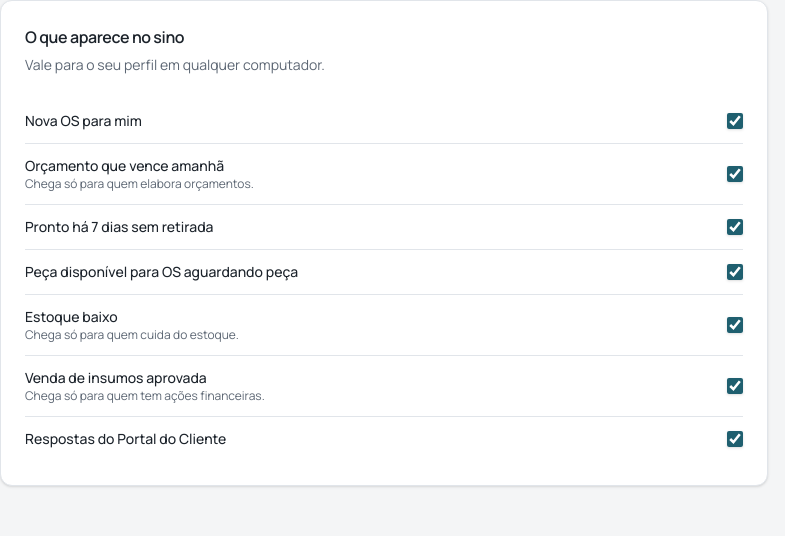
Scenario: PreferenciasNotificacao › se salvar falha, a marca volta e o erro aparece
Click the checkbox labelled "Nova OS para mim" at x=735, y=121, box 727,113 -> 743,129
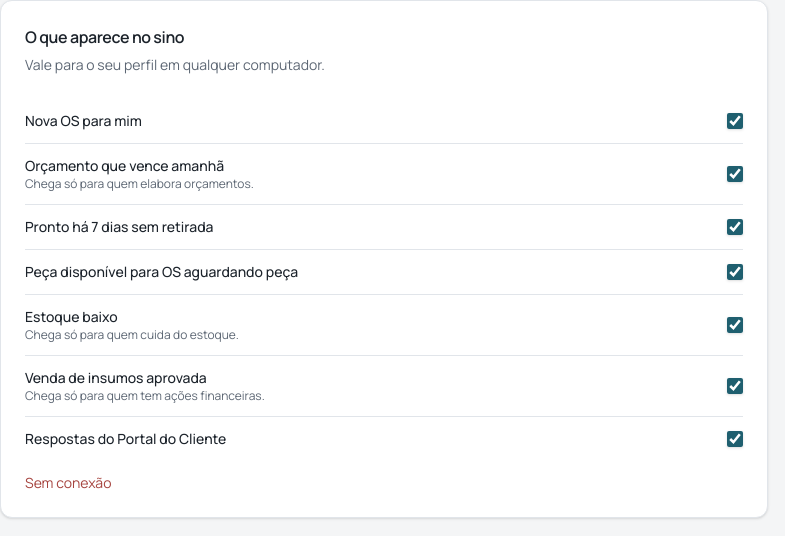
Check: the message reads "Sem conexão", box 25,473 -> 111,492
